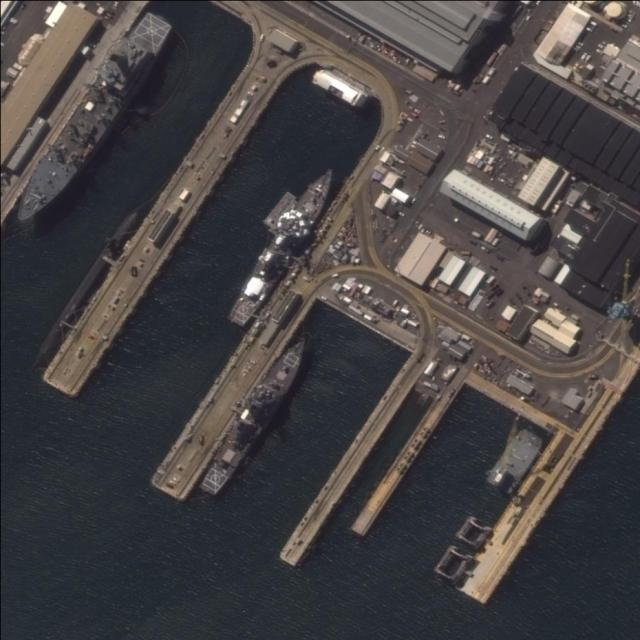Commander: (4, 1, 178, 235)
Destroyer: (224, 162, 339, 329), (196, 334, 314, 495)
Dock: (41, 51, 286, 401), (146, 284, 313, 502), (277, 361, 427, 566), (456, 429, 591, 606), (349, 377, 465, 537)
Submarine: (30, 208, 140, 365)
